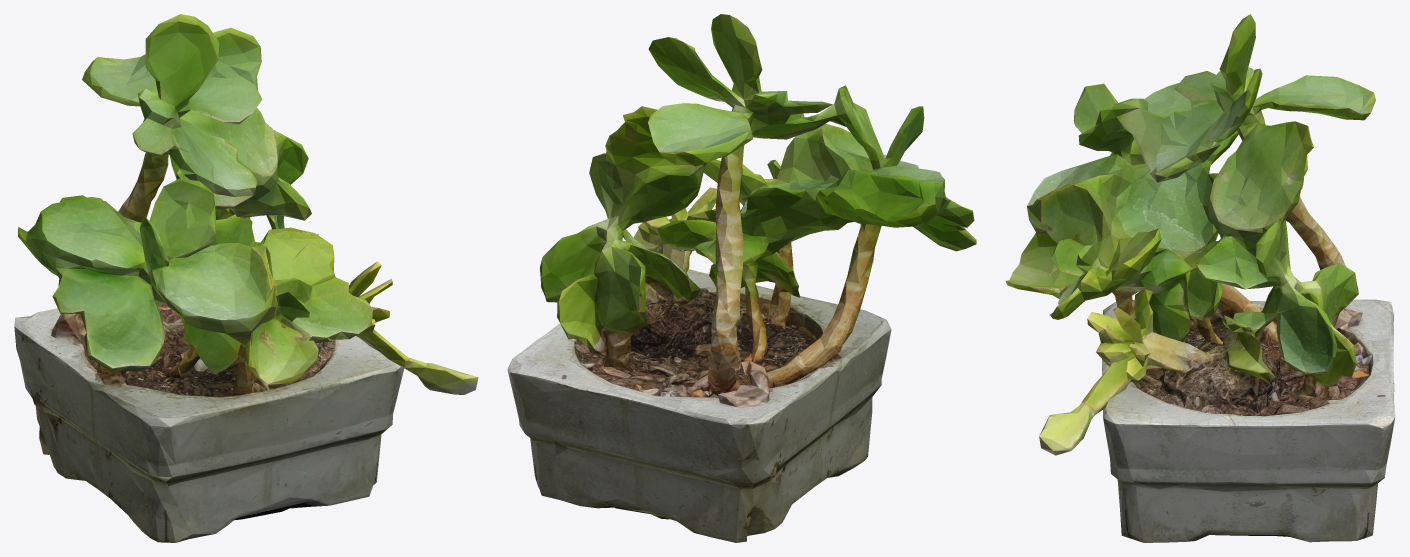
The model's file is BROARD_LEAF_SUC.obj.
The picture shows the model from 3 angles, left to right: view 1: azimuth 30°, elevation 25°; view 2: azimuth 150°, elevation 25°; view 3: azimuth 270°, elevation 25°; orthographic projection.
Parts seen in each view (by area): view 1: BROARD_LEAF_SUCCULENT_5K; view 2: BROARD_LEAF_SUCCULENT_5K; view 3: BROARD_LEAF_SUCCULENT_5K.
Part boxes in pixels (bbox=[...]): BROARD_LEAF_SUCCULENT_5K: bbox=[14, 14, 478, 542]; BROARD_LEAF_SUCCULENT_5K: bbox=[507, 14, 976, 542]; BROARD_LEAF_SUCCULENT_5K: bbox=[1005, 14, 1395, 542].
Size of the model in its own units: 0.3482 by 0.4071 by 0.3134.
